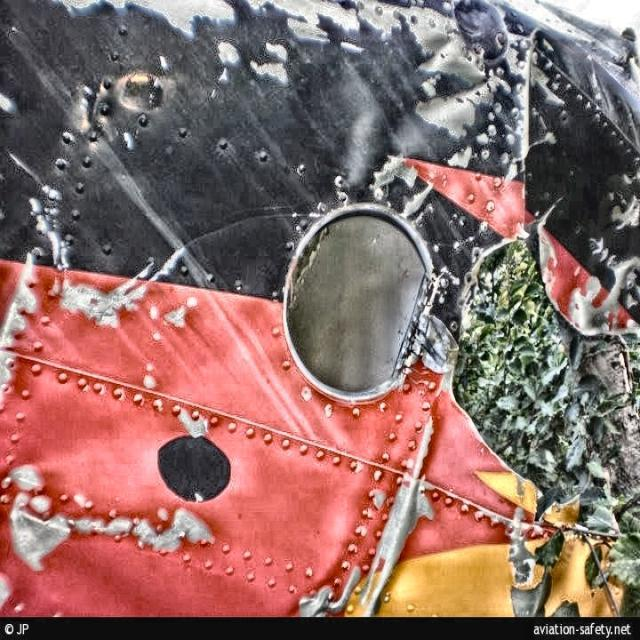dent: (2, 415, 168, 516), (290, 62, 420, 189)
